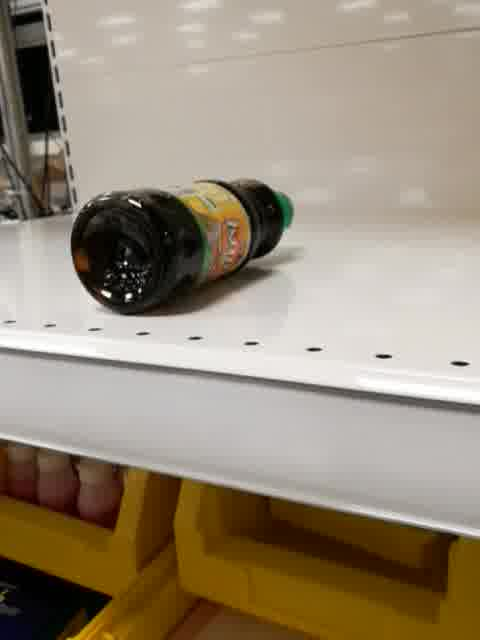cookingoil: (67, 173, 300, 318)
